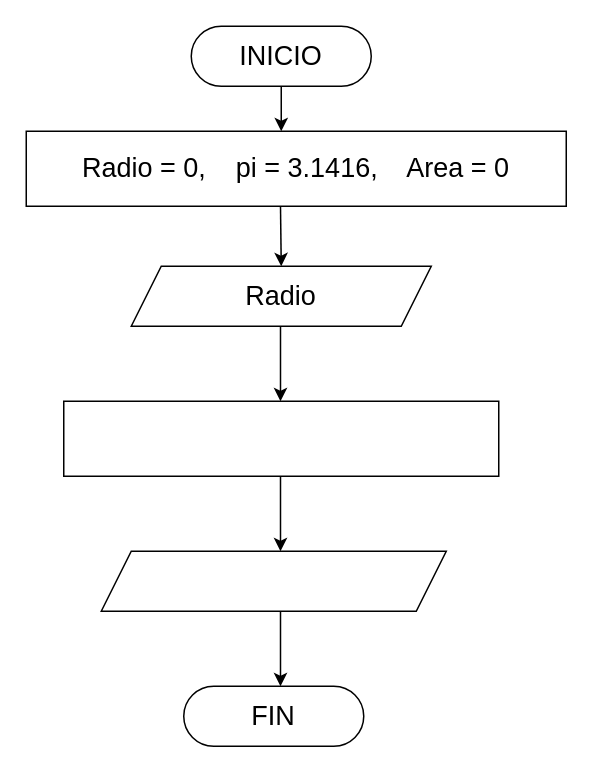
The diagram is 593 pixels wide and 773 high, and some of its shapes have lost their labels. Here are the shapes that lost their labels. From the top down, the box of each, then its label:
(62, 400, 499, 476): Area = Pi * Radio ^ 2
(100, 550, 446, 611): Area
